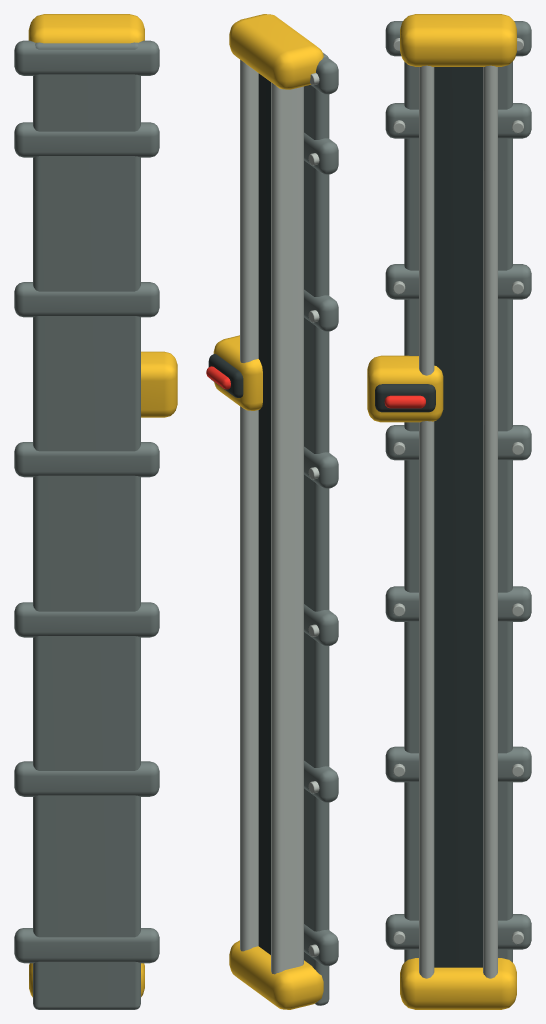
Rendered from SM_BunkerLiftWallRail.fbx.
The picture shows the model from 3 angles, left to right: view 1: azimuth 90°, elevation 25°; view 2: azimuth 210°, elevation 25°; view 3: azimuth 270°, elevation 25°; orthographic projection. The views are drawn at different scales.
Parts seen in each view (by area): view 1: SM_BunkerLiftWallRail; view 2: SM_BunkerLiftWallRail; view 3: SM_BunkerLiftWallRail.
Part boxes in pixels (bbox=[...]): SM_BunkerLiftWallRail: bbox=[14, 14, 177, 1009]; SM_BunkerLiftWallRail: bbox=[206, 14, 338, 1009]; SM_BunkerLiftWallRail: bbox=[367, 14, 531, 1009].
Size of the model in its own units: 13.95 by 194 by 29.35.
